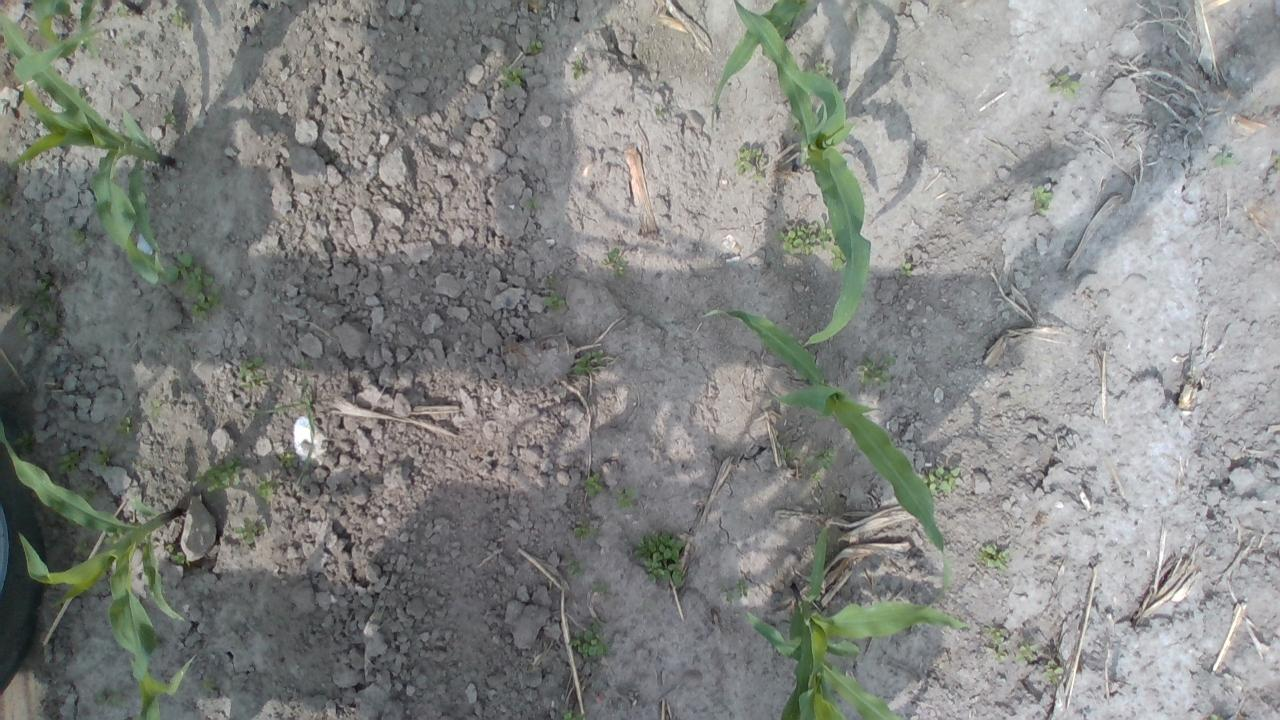Maize: (699, 306, 950, 580), (0, 421, 202, 698), (730, 0, 874, 348), (0, 10, 175, 291), (743, 517, 973, 720), (711, 0, 804, 109), (35, 0, 147, 59), (133, 691, 164, 720)
Weeds: (160, 251, 226, 319), (632, 528, 690, 586), (14, 278, 61, 342), (776, 218, 834, 253), (193, 457, 241, 495), (569, 622, 608, 658), (238, 356, 274, 394), (733, 144, 766, 182), (922, 465, 961, 496), (862, 356, 896, 386), (977, 542, 1011, 570), (234, 518, 268, 543), (1049, 73, 1080, 99), (542, 288, 570, 314), (1030, 184, 1052, 217), (573, 350, 602, 375), (602, 246, 624, 278), (1039, 658, 1064, 684), (498, 64, 524, 88), (300, 398, 318, 432), (724, 579, 748, 604), (807, 447, 833, 470), (254, 473, 276, 499), (58, 450, 79, 477), (830, 243, 850, 271), (169, 4, 190, 30), (584, 472, 605, 498), (1013, 642, 1040, 662), (984, 624, 1009, 644), (575, 522, 601, 541), (616, 486, 636, 510), (68, 229, 90, 250), (95, 690, 122, 706), (165, 544, 186, 564), (96, 442, 114, 464), (114, 416, 136, 434), (810, 62, 832, 80), (1214, 151, 1234, 168), (103, 530, 124, 546), (566, 558, 584, 576), (572, 56, 585, 80), (527, 38, 546, 54), (200, 676, 217, 692), (250, 406, 266, 423), (898, 260, 914, 277), (280, 452, 298, 467), (162, 110, 178, 126), (75, 535, 88, 553), (150, 398, 162, 417), (115, 1, 128, 18), (590, 580, 608, 592), (564, 710, 584, 720), (806, 470, 824, 481), (655, 105, 666, 120), (274, 403, 288, 414), (782, 446, 794, 458), (526, 198, 538, 209), (1273, 155, 1280, 167)
